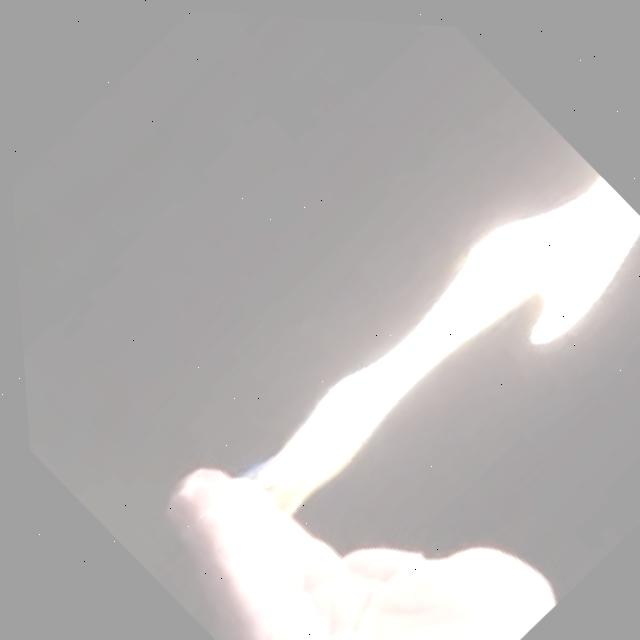Fire: (187, 112, 640, 606)
